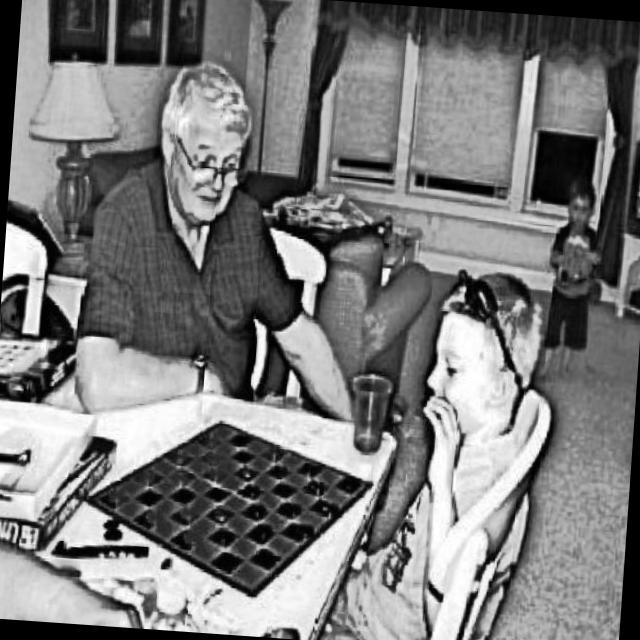Person: (67, 45, 376, 422), (301, 253, 552, 640), (533, 178, 608, 380)
